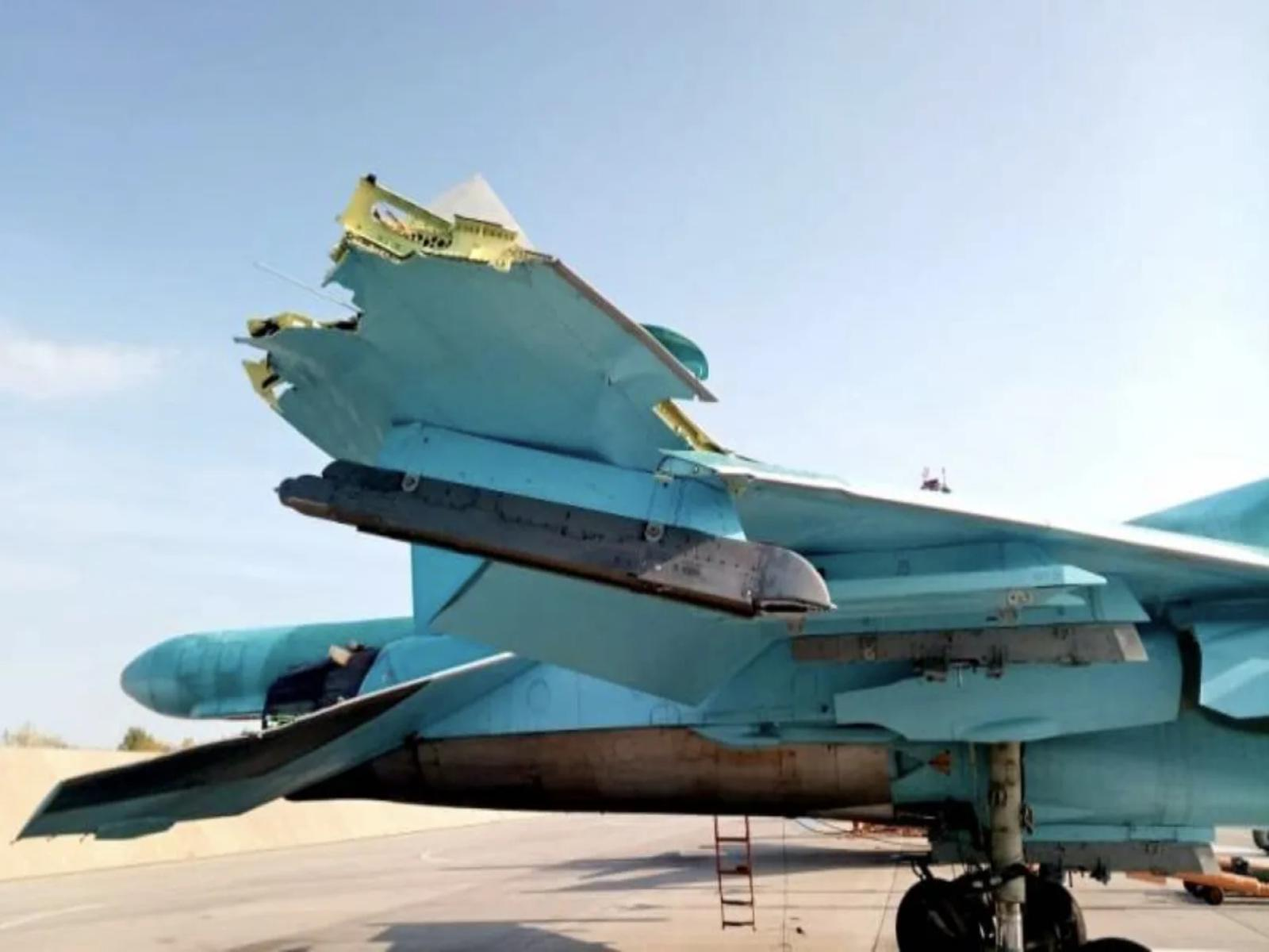Wing_damage: (333, 175, 542, 271), (654, 399, 729, 452), (244, 360, 279, 408), (247, 312, 311, 338)
